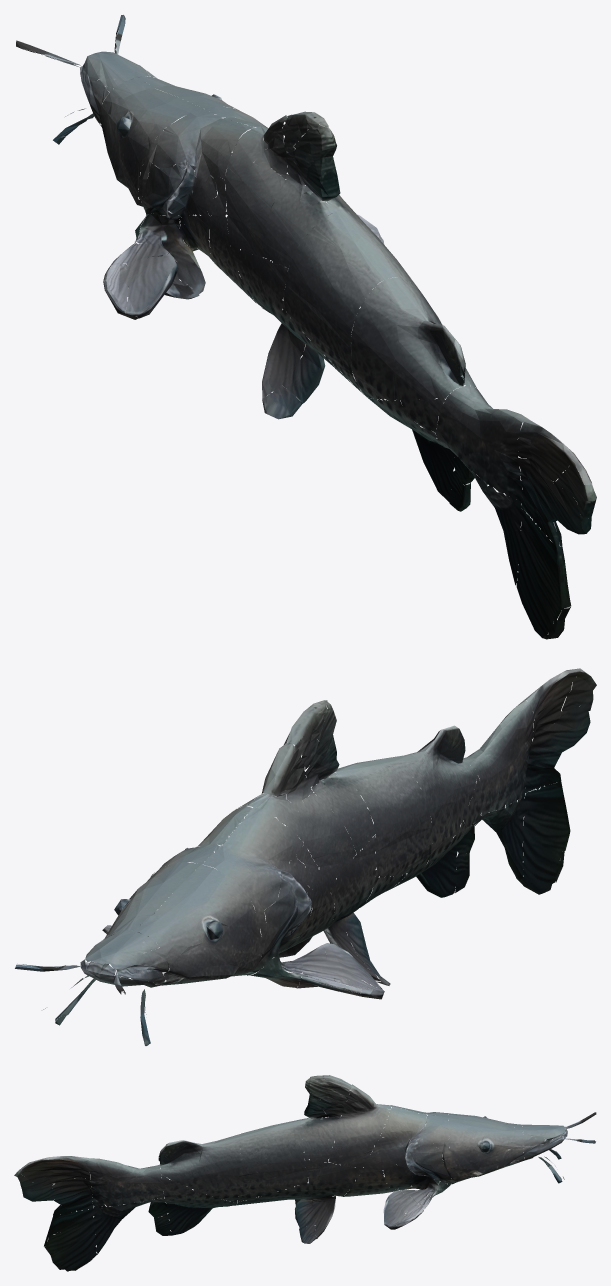
File: surubi_pintado.glb
3 renders of one model, top to bottom at view 1: azimuth 30°, elevation 25°; view 2: azimuth 150°, elevation 25°; view 3: azimuth 270°, elevation 25°, orthographic. The views are drawn at different scales.
Parts seen in each view (by area): view 1: tripo_node_0b54dccf-a887-4eb8-a519-a7f9ea4f25e3; view 2: tripo_node_0b54dccf-a887-4eb8-a519-a7f9ea4f25e3; view 3: tripo_node_0b54dccf-a887-4eb8-a519-a7f9ea4f25e3.
Part boxes in pixels (<box>): tripo_node_0b54dccf-a887-4eb8-a519-a7f9ea4f25e3: <box>16,15,596,639</box>; tripo_node_0b54dccf-a887-4eb8-a519-a7f9ea4f25e3: <box>15,668,596,1045</box>; tripo_node_0b54dccf-a887-4eb8-a519-a7f9ea4f25e3: <box>14,1075,596,1271</box>.
Size of the model in its own units: 0.2935 by 0.3704 by 1.
1 material, 1 textured.
